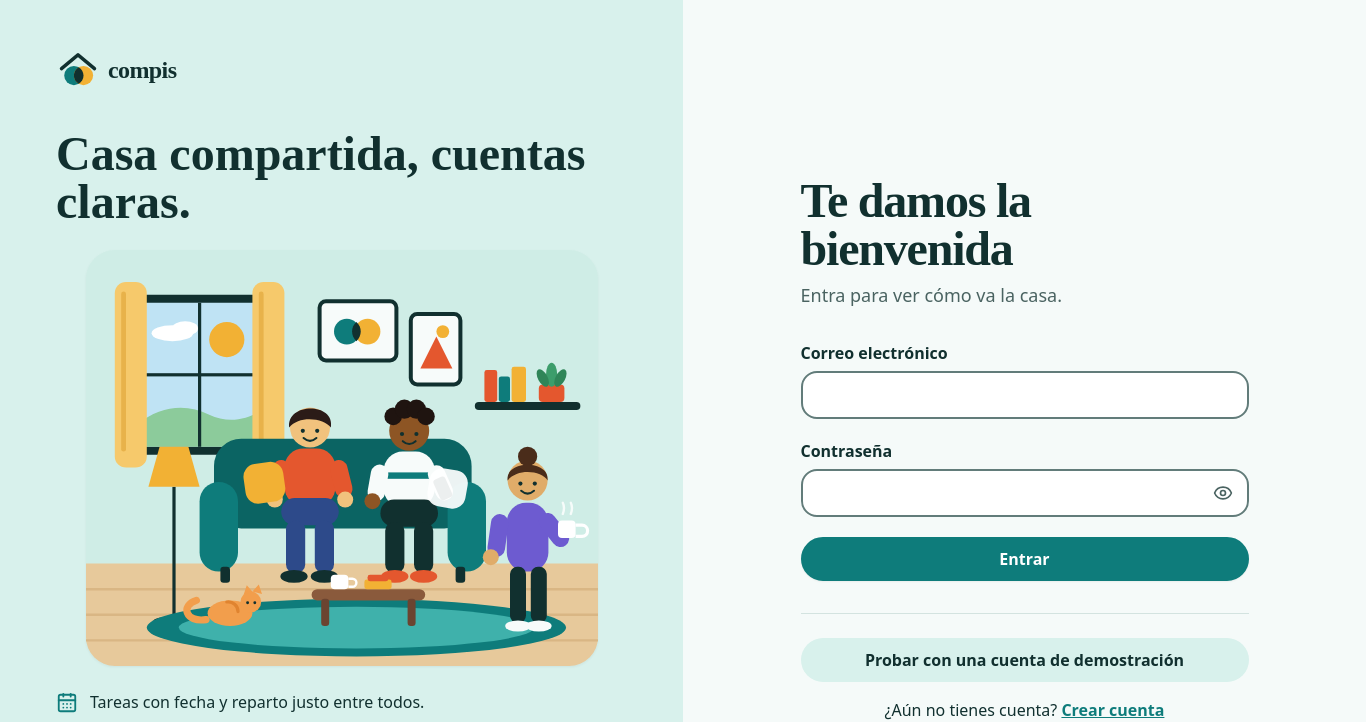
login › signs in and lands on the dashboard
Type "lucia@example.com" into the field labelled "Correo electrónico" at (1024, 394), box left=800, top=370, right=1248, bottom=418
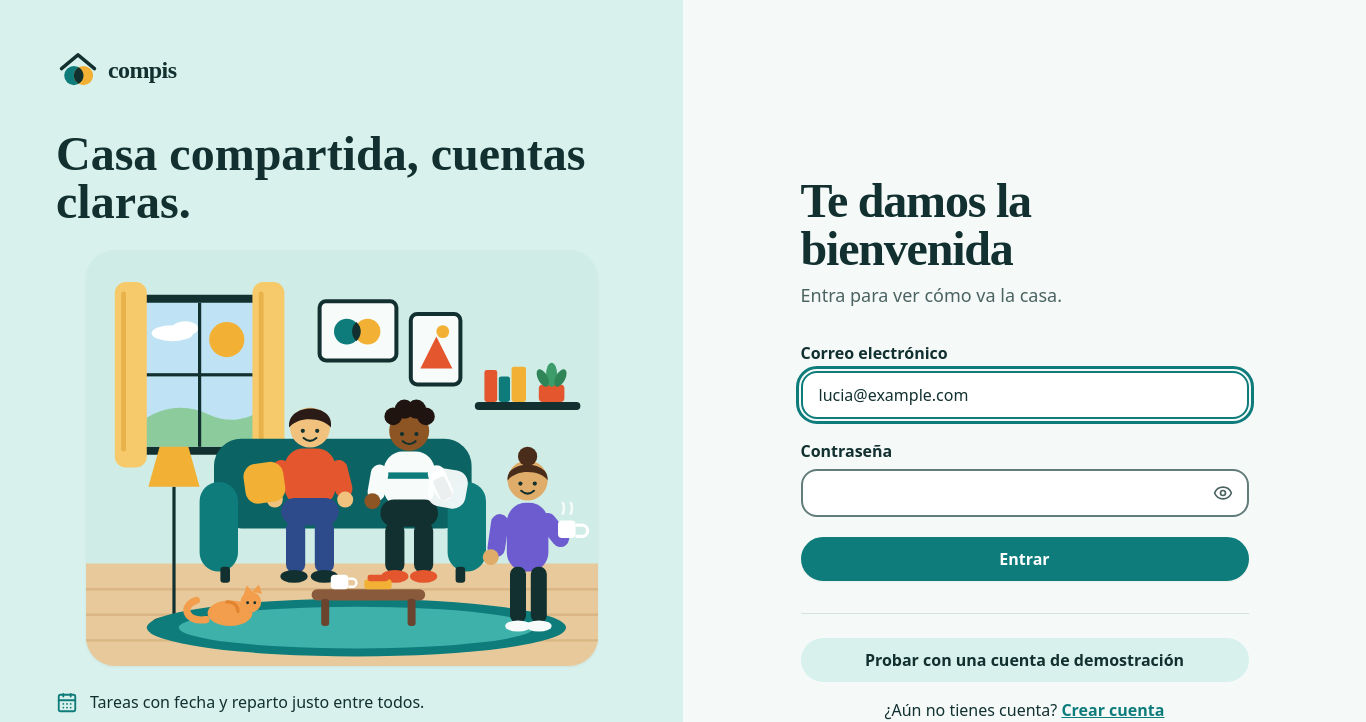
Type "password-123" into the password field labelled "Contraseña" at (1024, 492), box left=800, top=468, right=1248, bottom=516
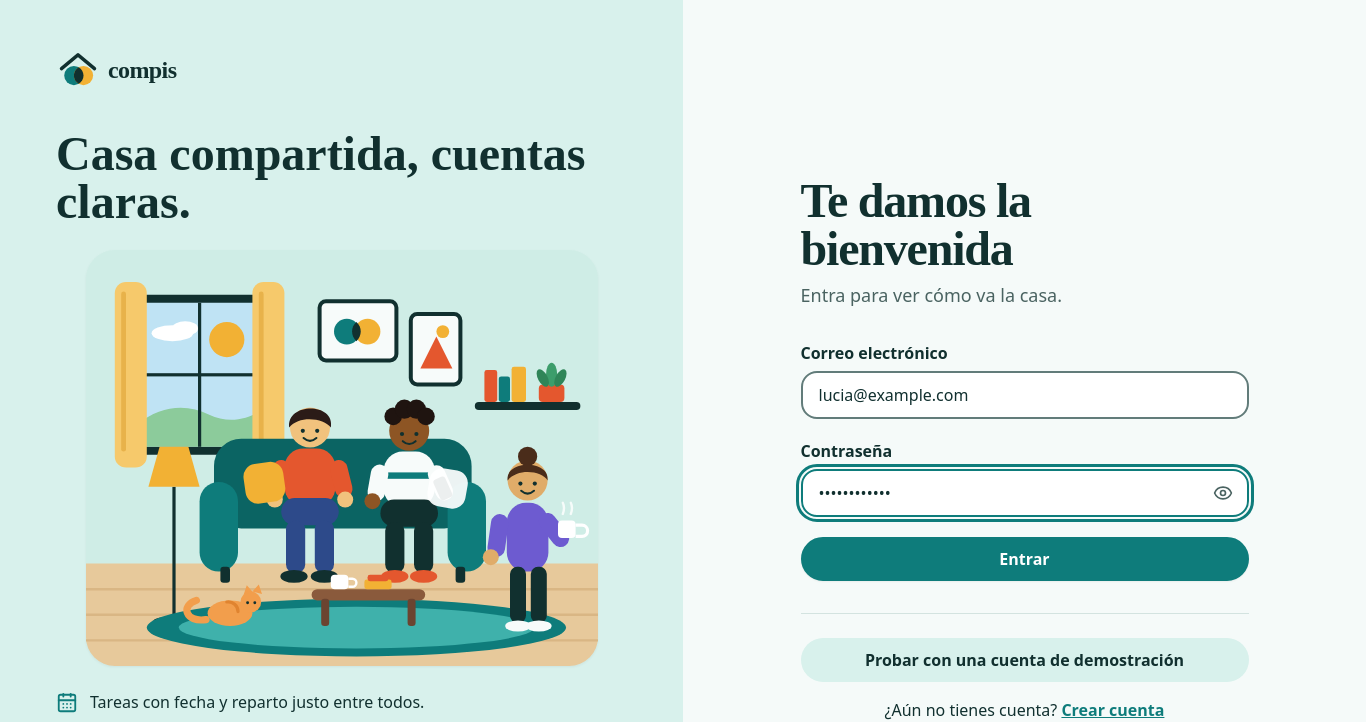
Click the button "Entrar" at (1024, 558), box left=800, top=536, right=1248, bottom=580
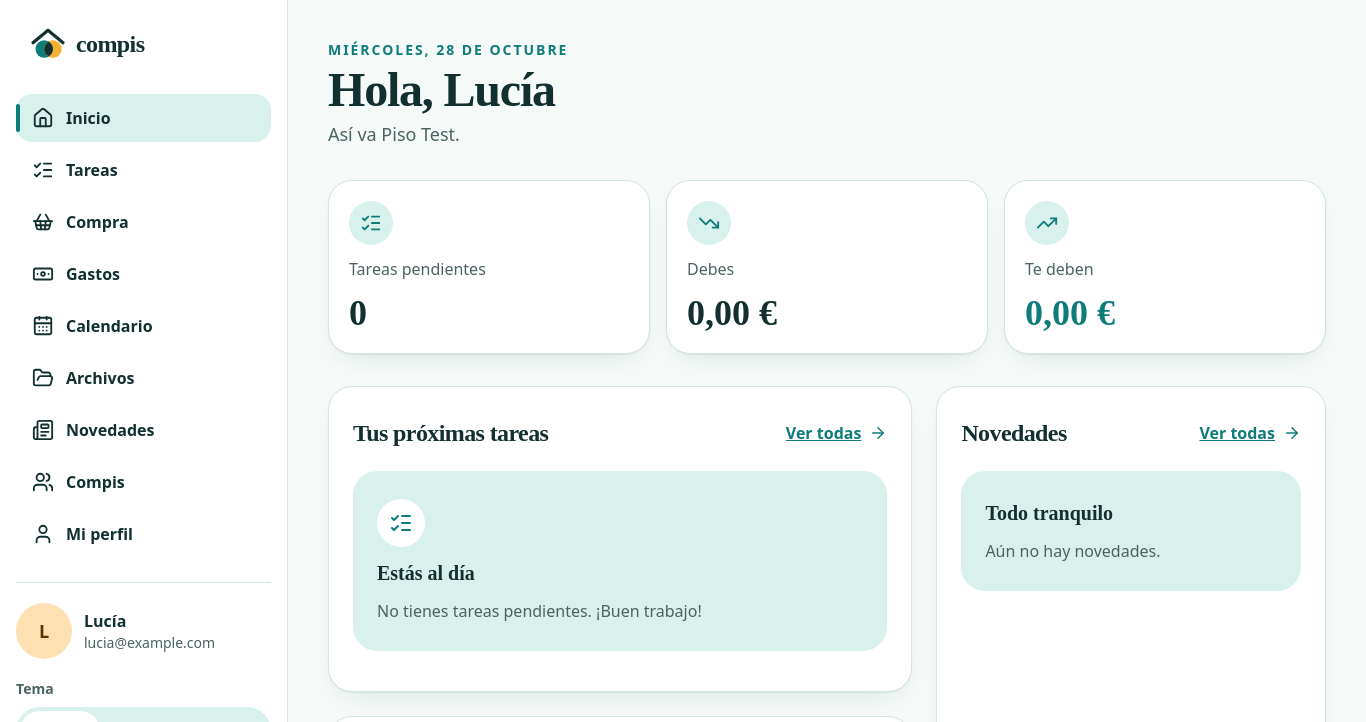
Now the heading "Hola, Lucía" is shown, box left=328, top=66, right=568, bottom=114
